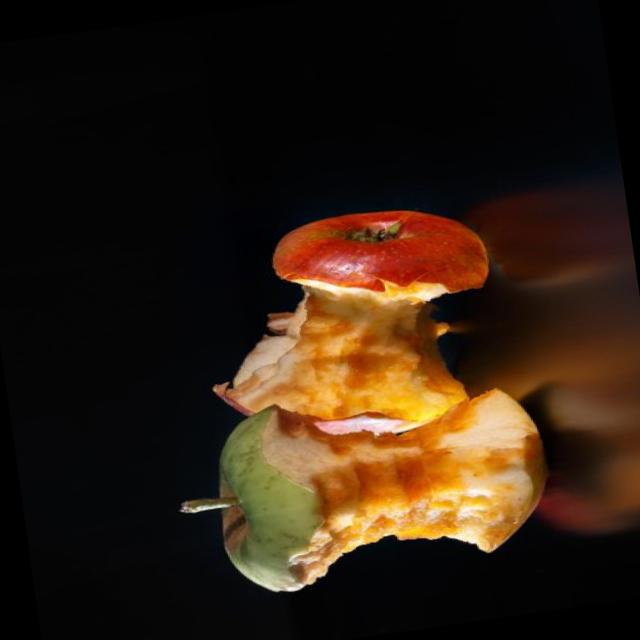apple_fruit: (164, 378, 569, 593), (198, 202, 505, 424)
